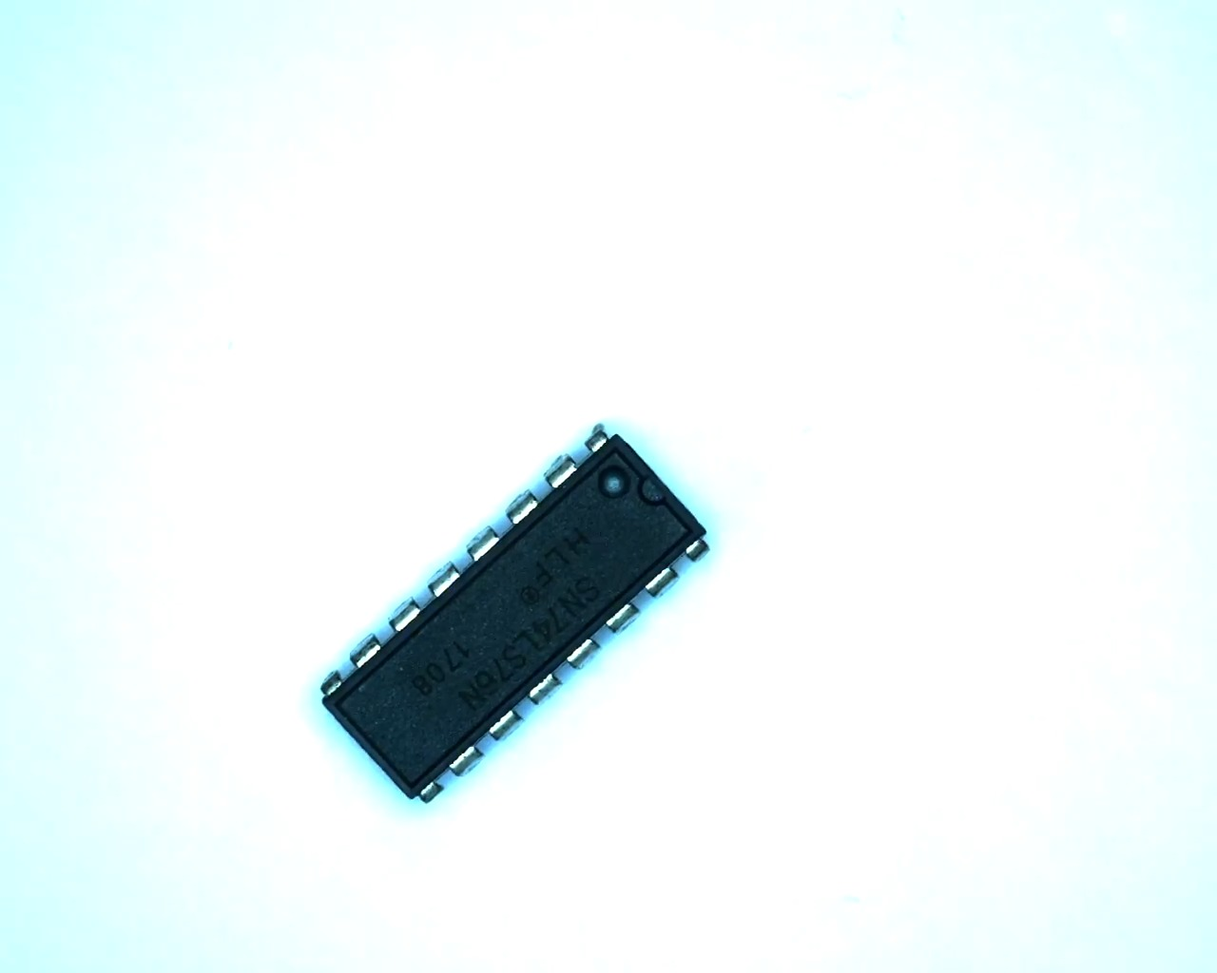IC: (304, 413, 729, 821)
notch: (634, 472, 674, 513)
